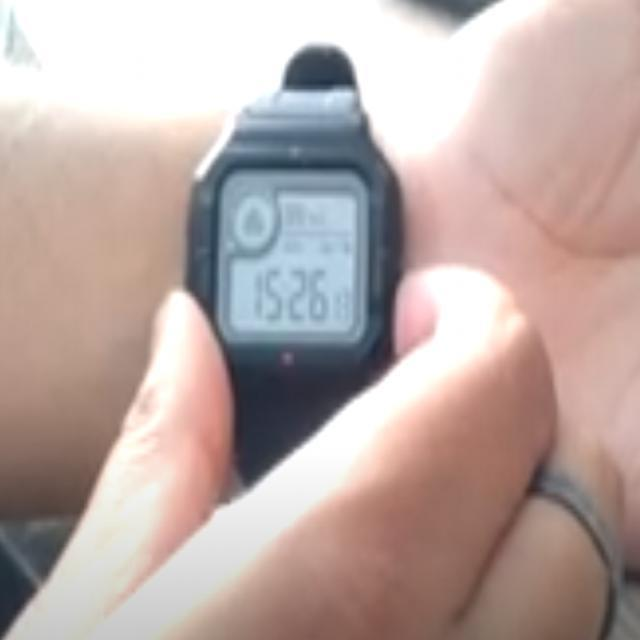Watch: (184, 42, 398, 445)
